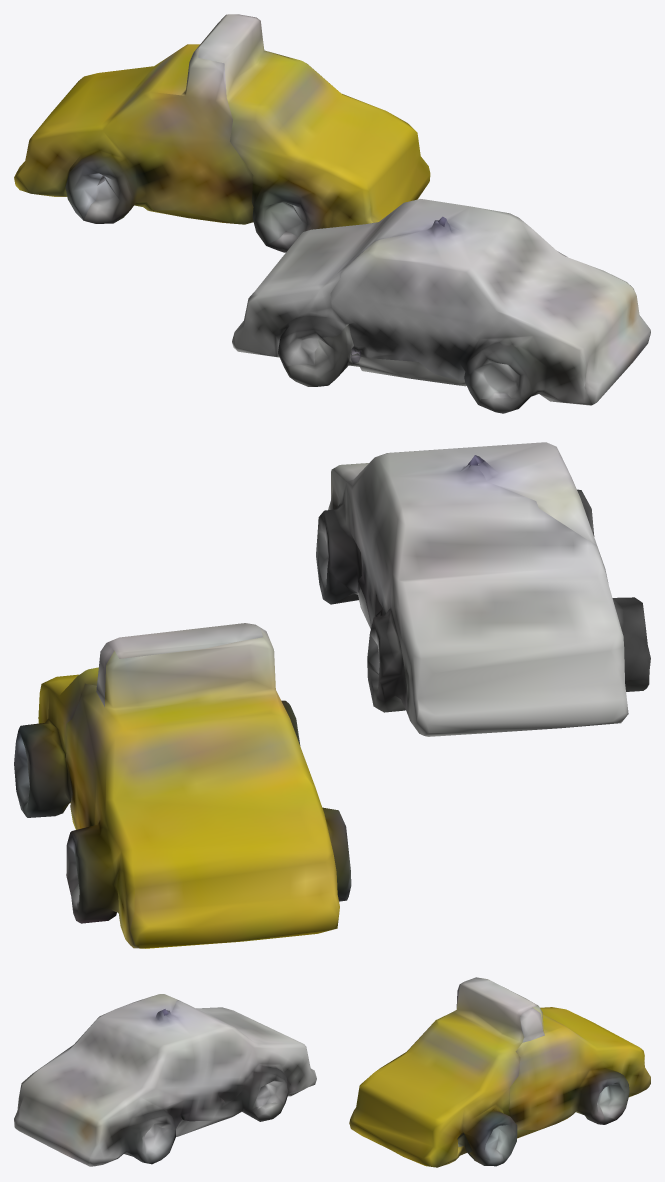
File: CITY_TAXI_POLICE_CAR-medium.glb
The picture shows the model from 3 angles, top to bottom: view 1: azimuth 30°, elevation 25°; view 2: azimuth 150°, elevation 25°; view 3: azimuth 270°, elevation 25°; orthographic projection. The views are drawn at different scales.
Parts seen in each view (by area): view 1: CITY_TAXI_POLICE_CAR; view 2: CITY_TAXI_POLICE_CAR; view 3: CITY_TAXI_POLICE_CAR.
Boxes of the visible parts, left/top/right/bottom form: CITY_TAXI_POLICE_CAR: left=14, top=14, right=650, bottom=413; CITY_TAXI_POLICE_CAR: left=14, top=442, right=650, bottom=948; CITY_TAXI_POLICE_CAR: left=14, top=977, right=650, bottom=1167.
Bounding box in the file's own units: 0.0566 × 0.0279 × 0.1262.
1 material, 1 textured.
